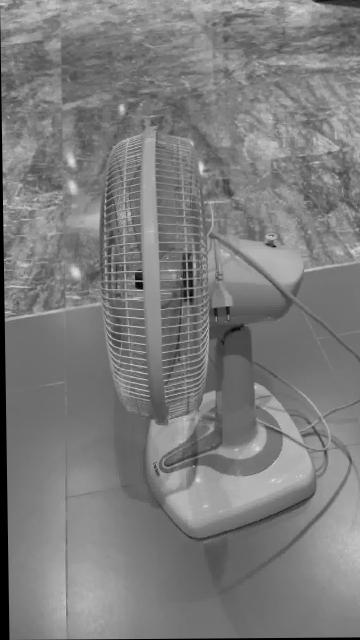Fan: (99, 126, 315, 543)
